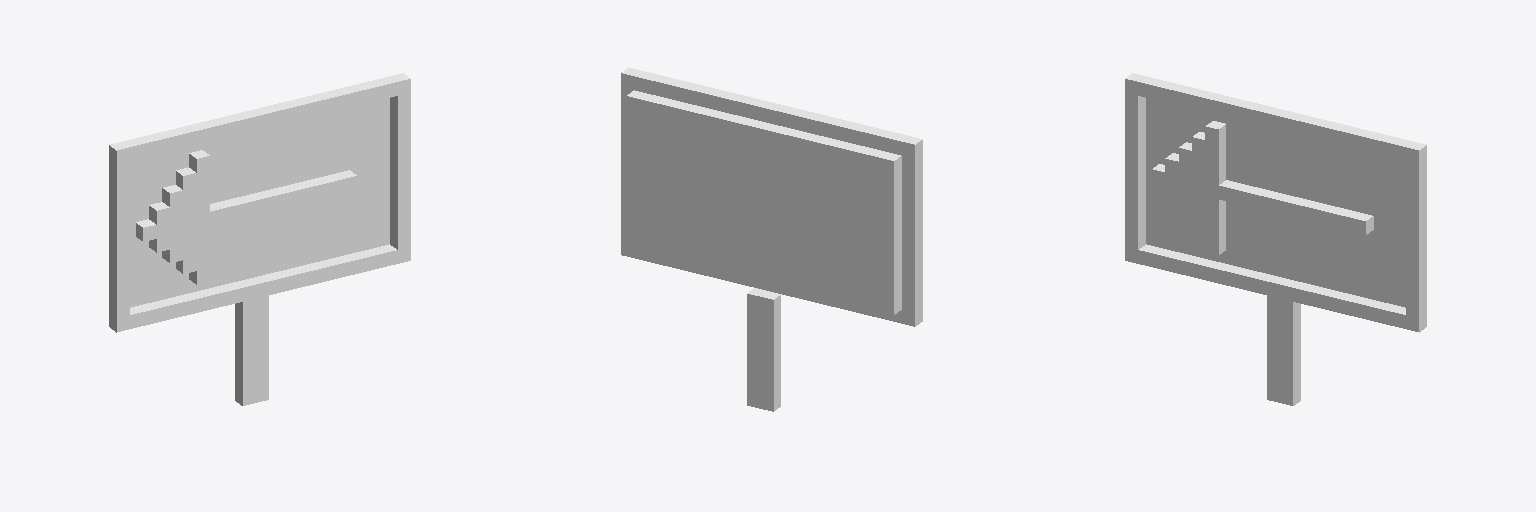
The model's file is Panneau.obj.
3 views of the same model, side by side, from view 1: azimuth 30°, elevation 25°; view 2: azimuth 150°, elevation 25°; view 3: azimuth 330°, elevation 25° (orthographic).
Parts seen in each view (by area): view 1: Panneau; view 2: Panneau; view 3: Panneau.
Boxes of the visible parts, box(x1,y1,x2,y2) form: Panneau: box(109, 73, 410, 405); Panneau: box(621, 67, 922, 411); Panneau: box(1125, 73, 1426, 405).
Bounding box in the file's own units: 22 × 21 × 2.